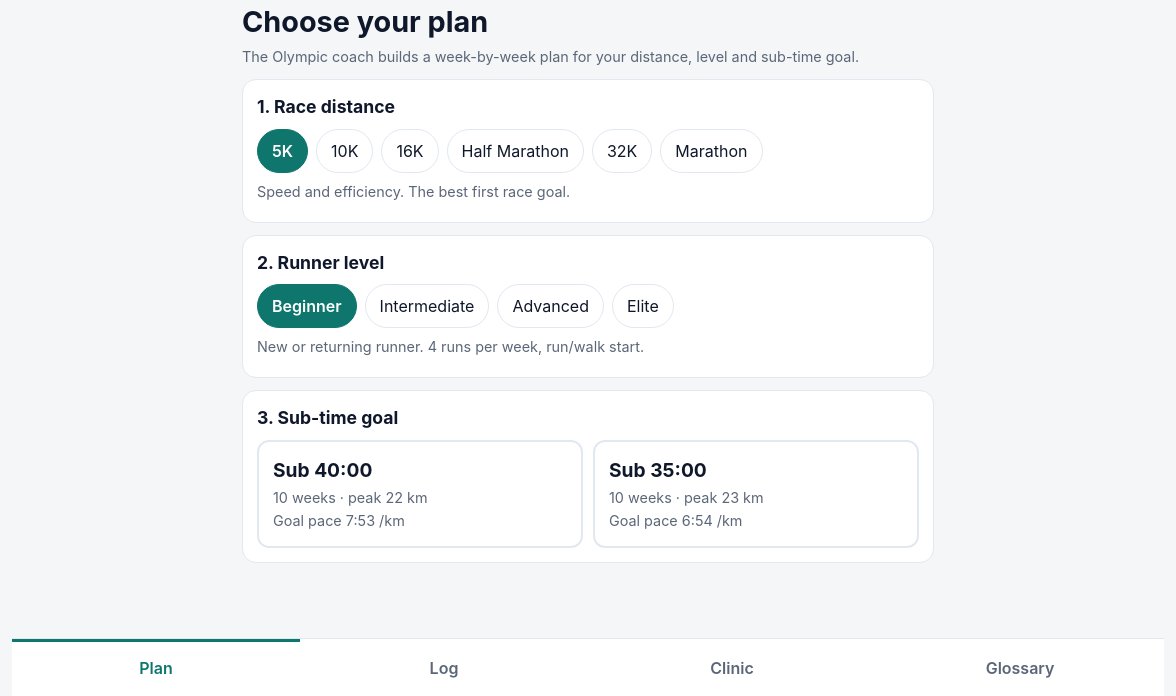
Test: app flow › week view has Next week, then both Prev and Next
Click the radio button labelled "5K".
click(282, 151)  # box [257,129,308,173]
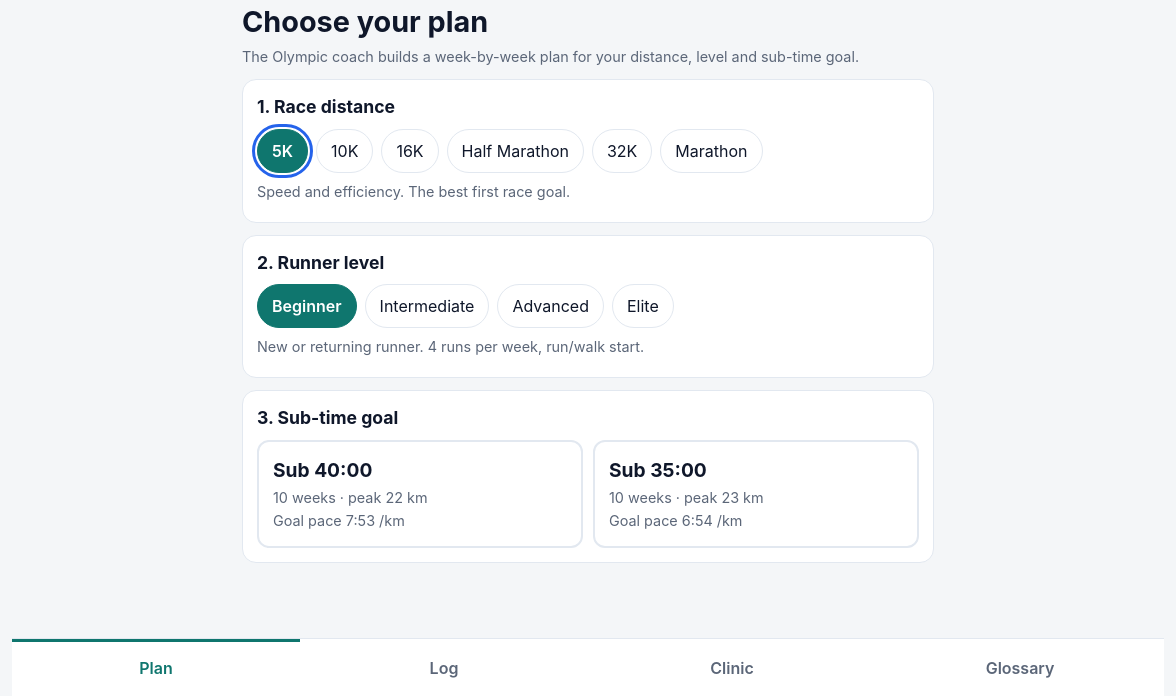
Click the radio button labelled "Beginner".
click(307, 306)  # box [257,284,357,328]
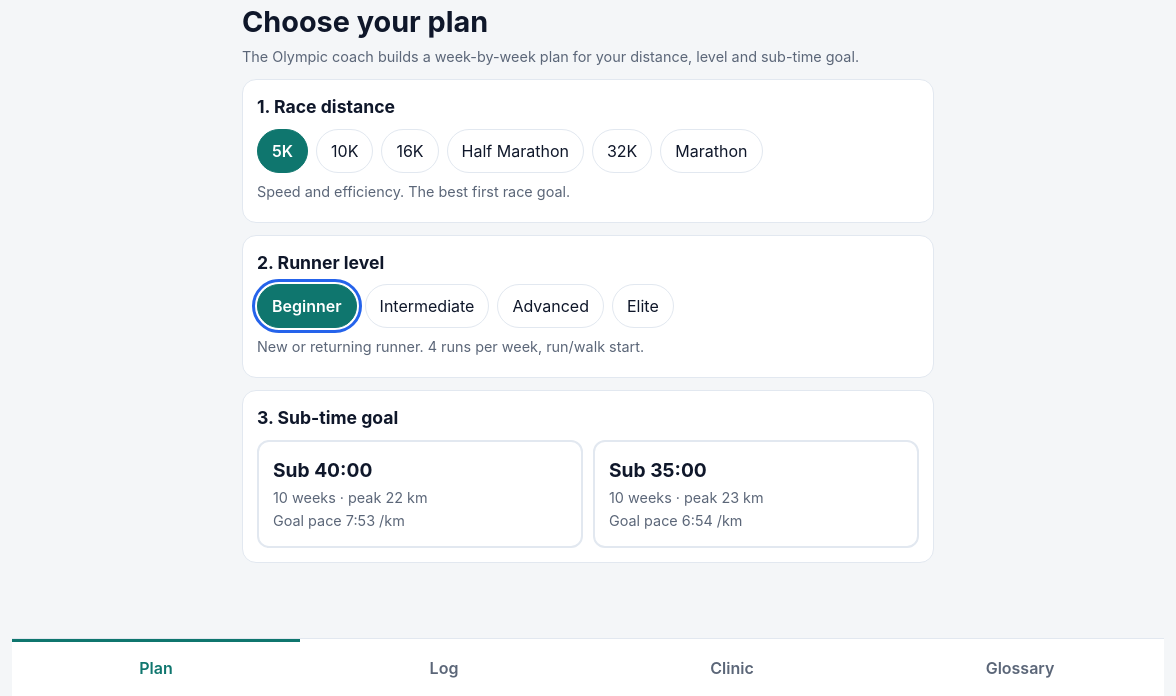
Click the button "Sub 40:00 10 weeks · peak 22 km Goal pace 7:53 /km".
click(420, 494)  # box [257,440,583,548]
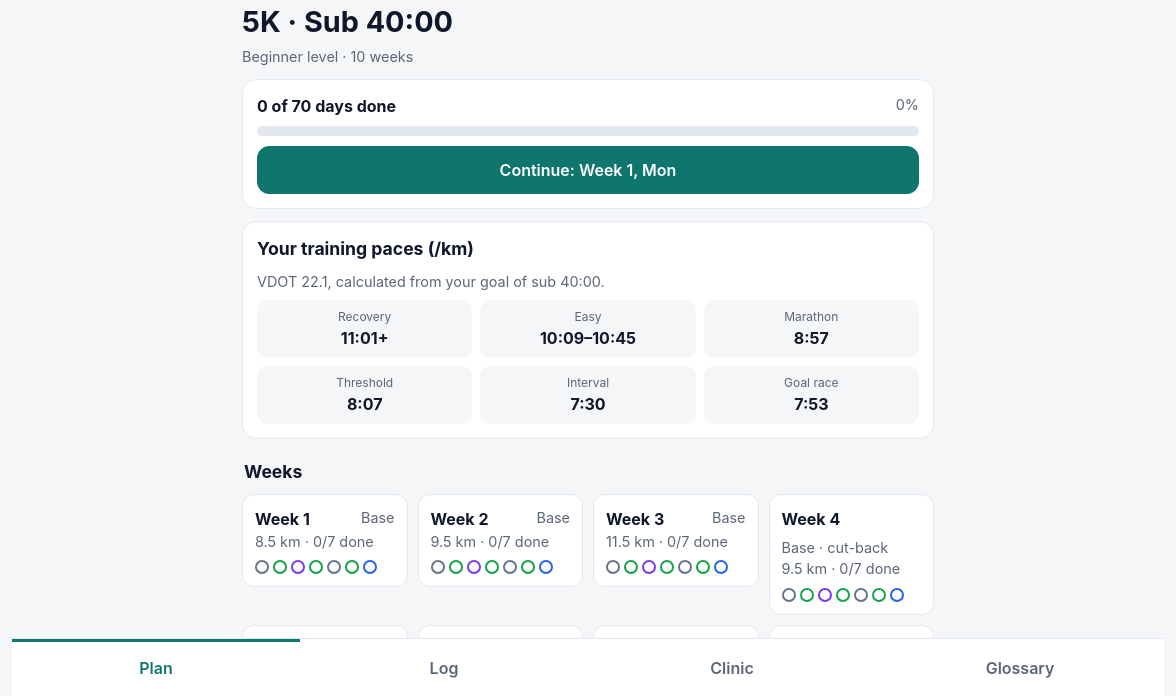
Click the button "Week 1 Base 8.5 km · 0/7 done".
click(325, 540)  # box [242,494,408,587]
(page scrolled)
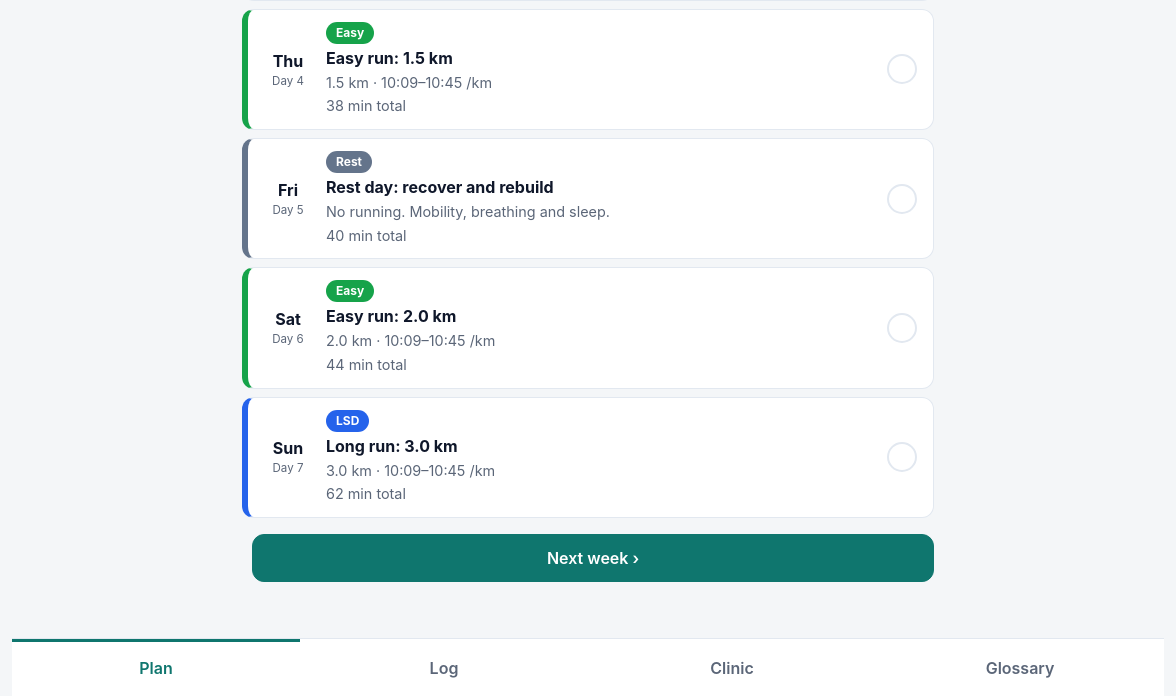
Expected: the button "Prev week" is not shown
Click the button "Next week ›".
click(593, 558)  # box [252,534,934,582]
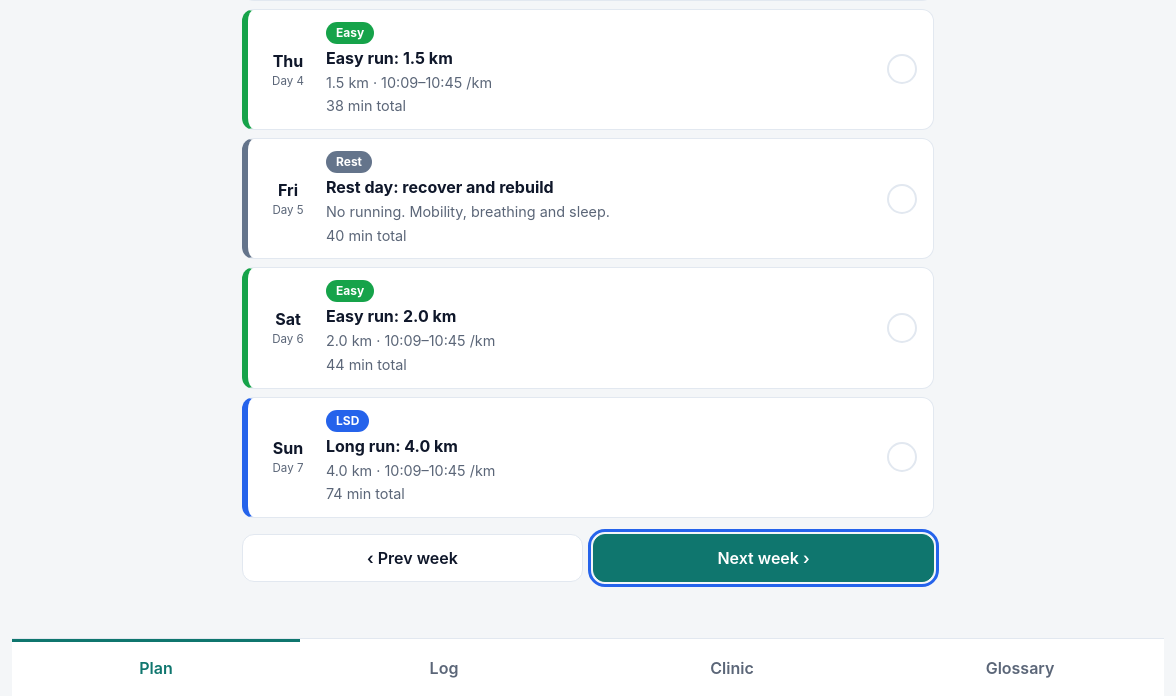
Result: the button "Next week ›" is shown at [593,534,934,582]
Result: the button "‹ Prev week" is shown at [242,534,583,582]
